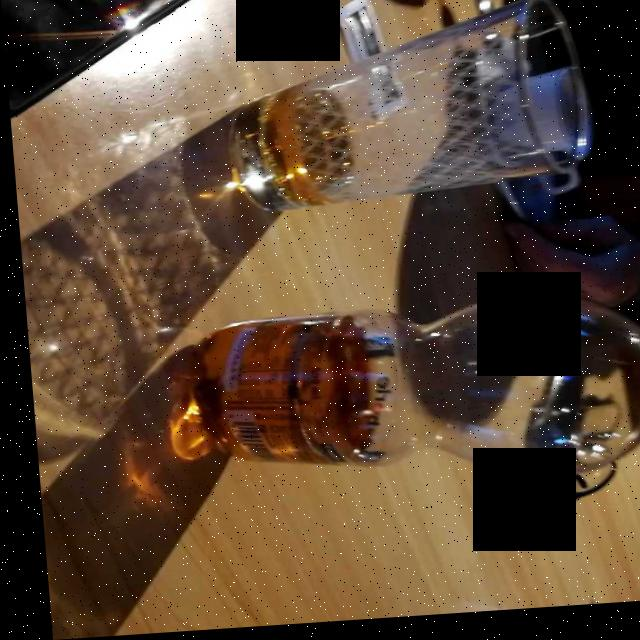juice-apple: (266, 95, 324, 208)
